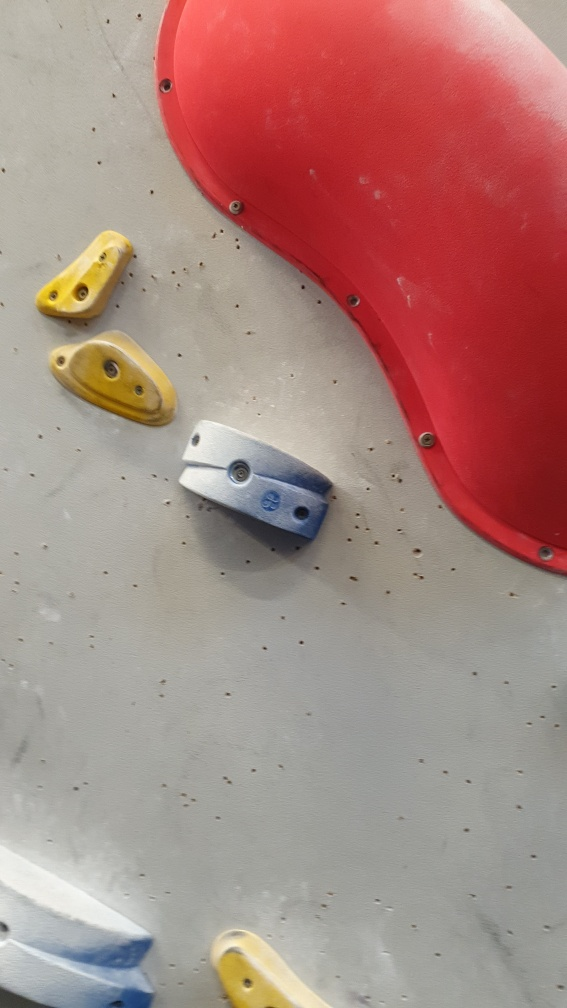Crimp: (62, 332, 169, 421), (206, 931, 312, 1008), (46, 231, 135, 321)
Pinch: (2, 839, 159, 1006), (174, 413, 340, 544)
